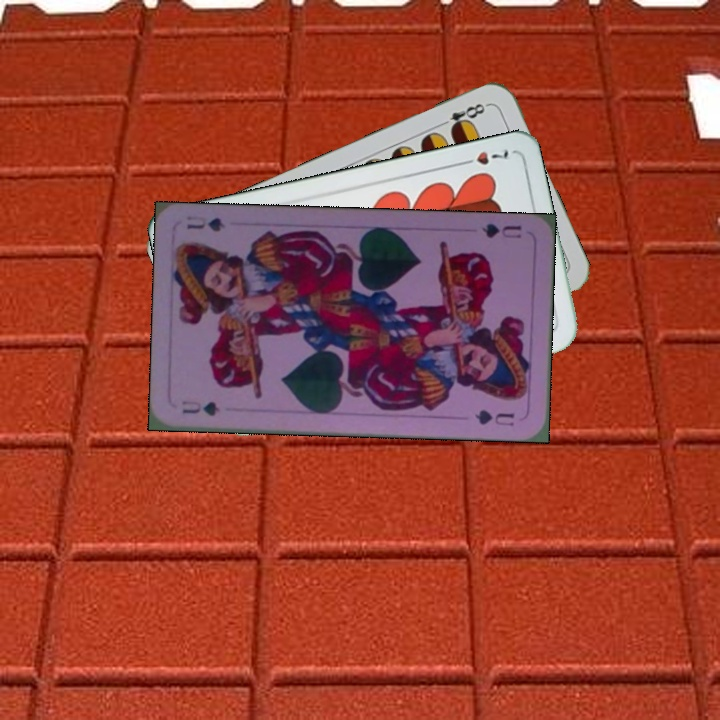E8: (435, 99, 491, 135)
GU: (478, 219, 524, 241), (178, 396, 222, 419)
H7: (455, 144, 511, 169)
